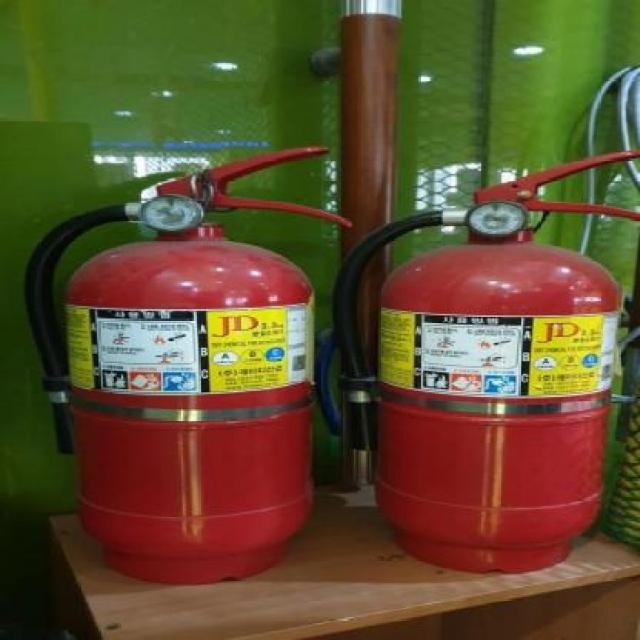fire extinguisher: (23, 146, 352, 586), (327, 150, 640, 575)
